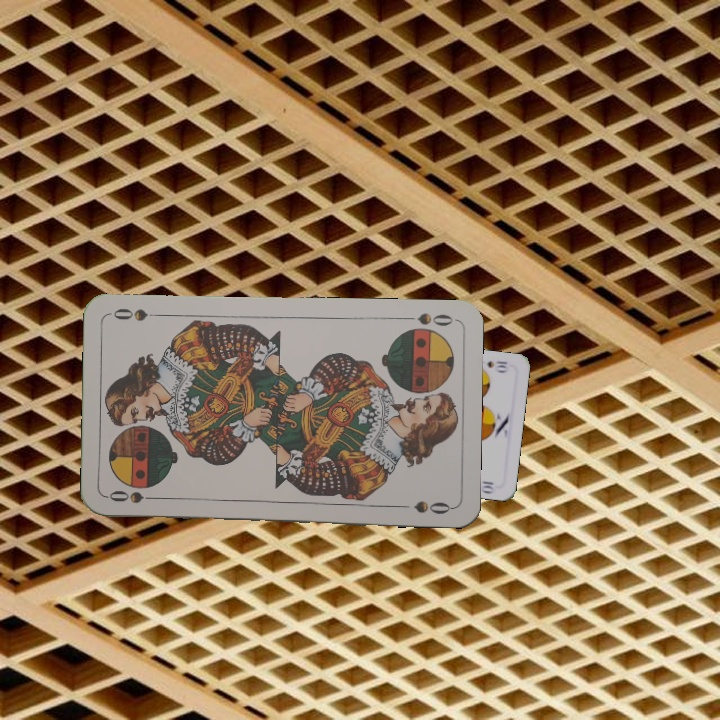S10: (483, 357, 510, 375)
SO: (105, 487, 164, 506), (398, 309, 455, 328)
